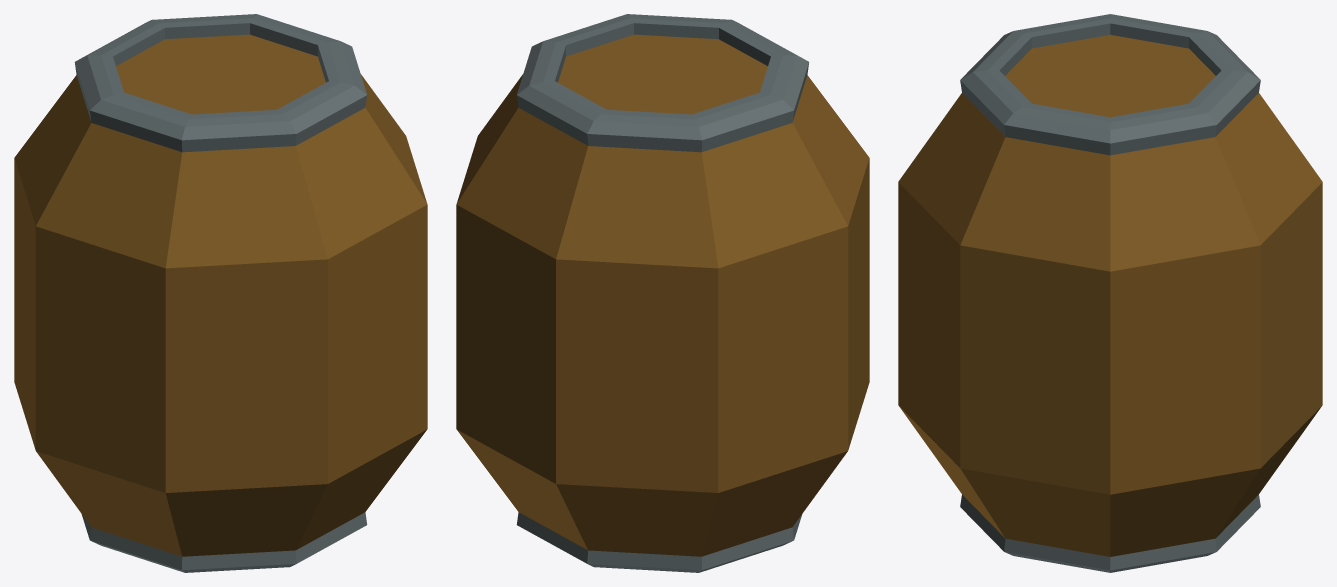
The model's file is Low Poly Barrel.fbx.
3 renders of one model, left to right at view 1: azimuth 30°, elevation 25°; view 2: azimuth 150°, elevation 25°; view 3: azimuth 270°, elevation 25°, orthographic.
Parts seen in each view (by area): view 1: Low_Poly_Barrel; view 2: Low_Poly_Barrel; view 3: Low_Poly_Barrel.
Boxes of the visible parts, left/top/right/bottom form: Low_Poly_Barrel: left=14, top=14, right=427, bottom=572; Low_Poly_Barrel: left=456, top=14, right=869, bottom=572; Low_Poly_Barrel: left=898, top=14, right=1322, bottom=572.
Bounding box in the file's own units: 172 × 200 × 172.
